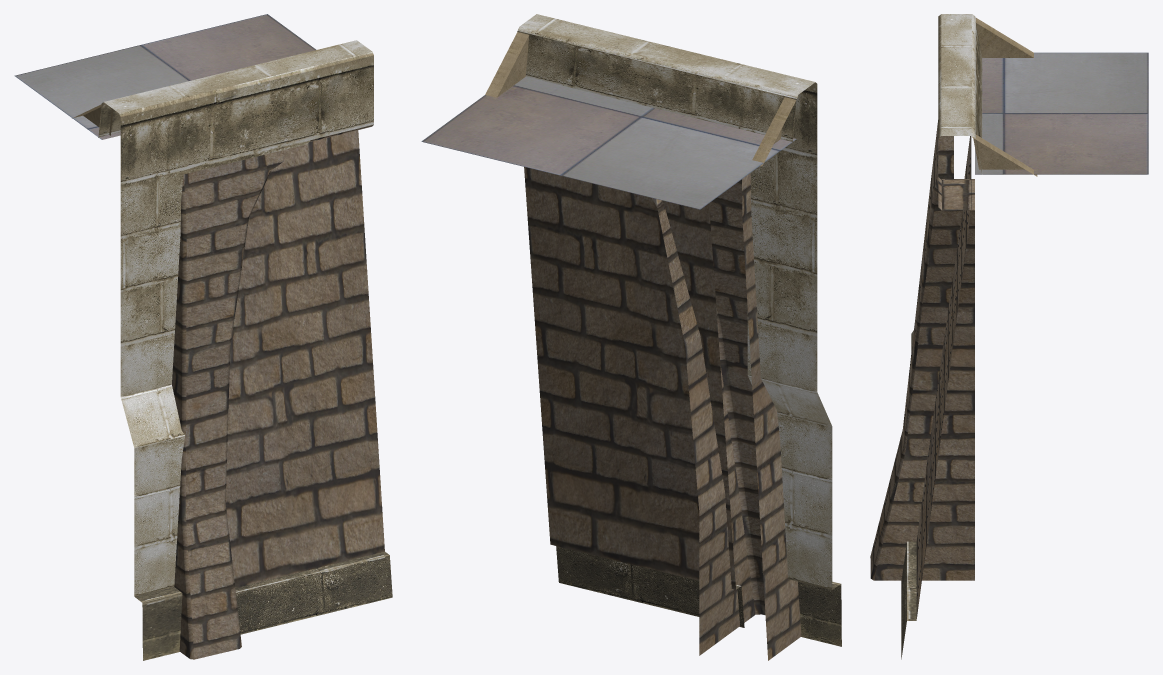
Rendered from castle-wall2-left.fbx.
The picture shows the model from 3 angles, left to right: view 1: azimuth 30°, elevation 25°; view 2: azimuth 150°, elevation 25°; view 3: azimuth 270°, elevation 25°; orthographic projection. The views are drawn at different scales.
Visible parts, largest first — view 1: castle-wall2-left; view 2: castle-wall2-left; view 3: castle-wall2-left.
Boxes of the visible parts, <box> form: castle-wall2-left: <box>14,14,392,660</box>; castle-wall2-left: <box>421,14,841,660</box>; castle-wall2-left: <box>870,14,1148,659</box>.
Bounding box in the file's own units: 200 × 401 × 192.
